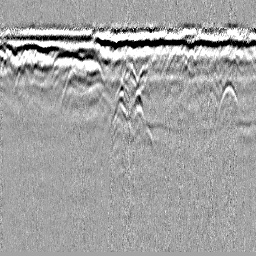cavity: (120, 60, 139, 86)
